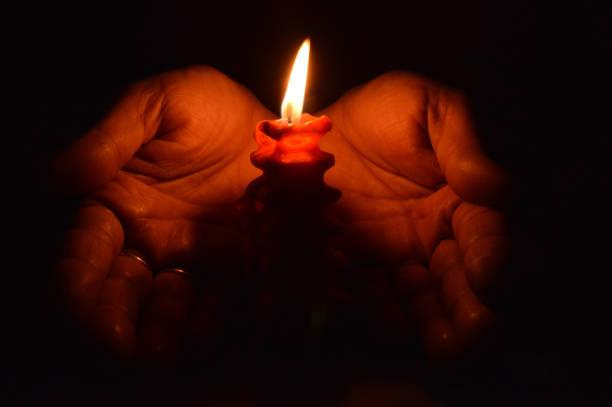Fire: (277, 34, 309, 125)
